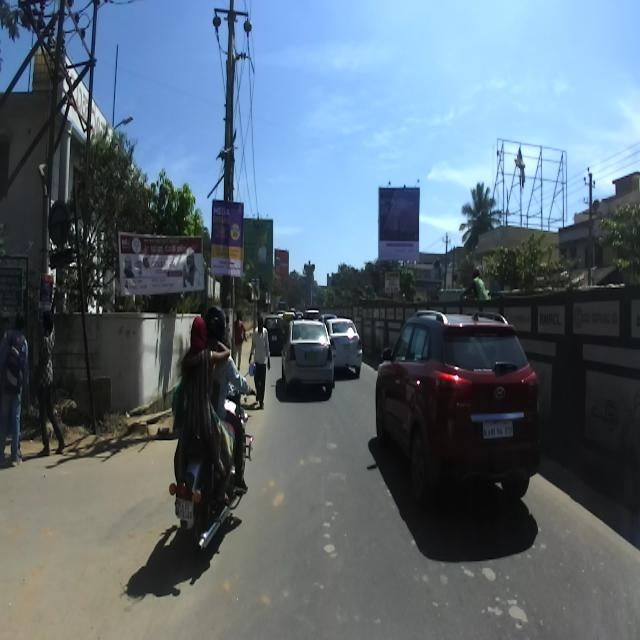car ahead at: (373, 303, 547, 514), (284, 313, 337, 401)
motorcycle ahead at: (172, 422, 255, 552)
